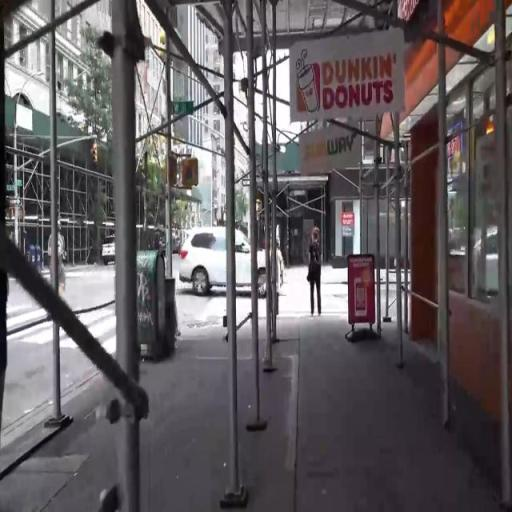person: (307, 228, 329, 317), (272, 233, 289, 301)
